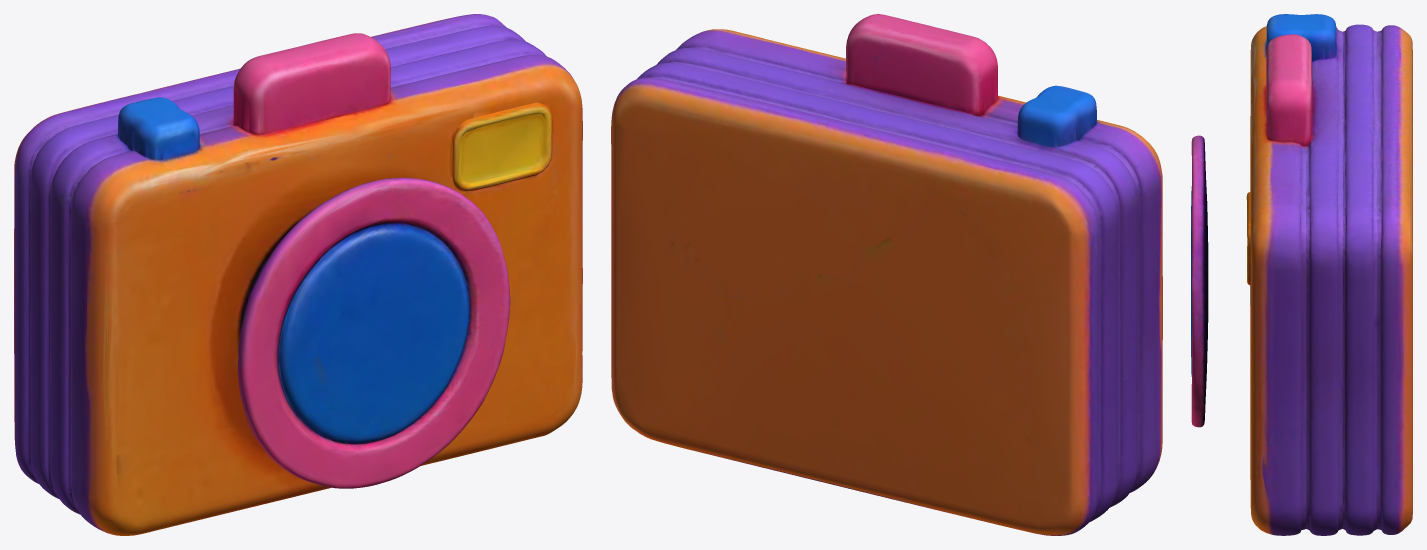
Rendered from photo__main__r2__p1.glb.
3 views of the same model, side by side, from view 1: azimuth 30°, elevation 25°; view 2: azimuth 150°, elevation 25°; view 3: azimuth 270°, elevation 25° (orthographic). The views are drawn at different scales.
Parts seen in each view (by area): view 1: model; view 2: model; view 3: model.
Boxes of the visible parts, box(x1,y1,x2,y2) form: model: box(14, 14, 582, 535); model: box(611, 14, 1162, 535); model: box(1191, 14, 1412, 535).
Bounding box in the file's own units: 1.79 × 1.49 × 0.7842.
Materials: 1 (1 with a texture image).
